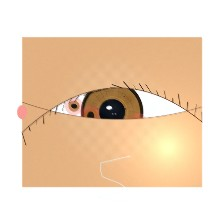foreign_body_visible: (68, 98, 113, 134)
